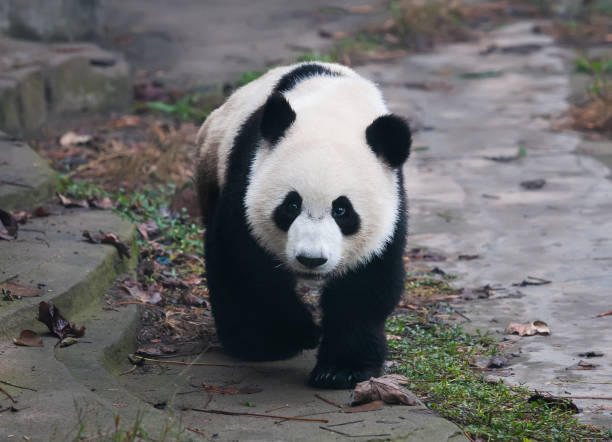panda: (231, 79, 416, 294)
